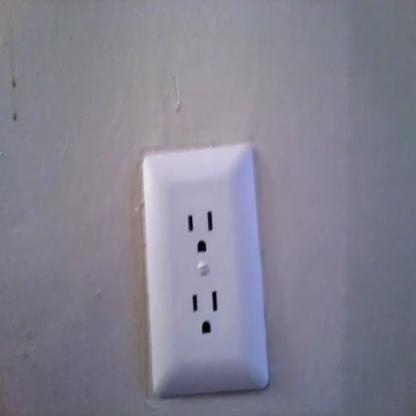OUTLET: (142, 149, 270, 390)
